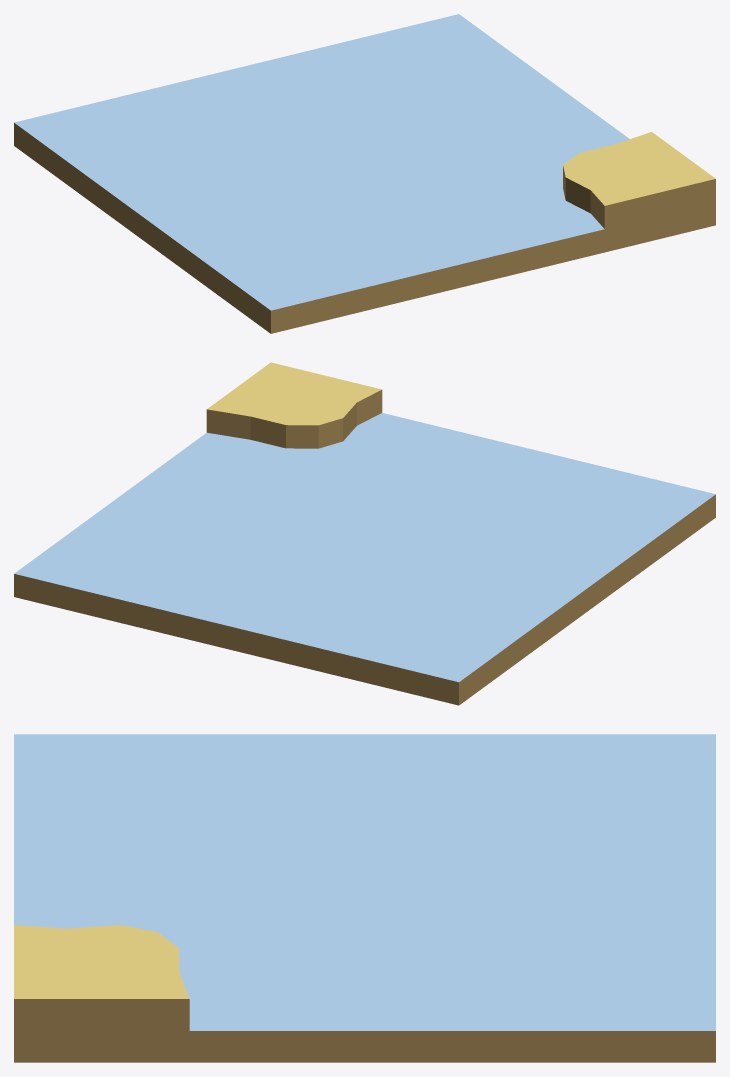
The model's file is Terrain_Modular_Tiles_Sand_Dirt_Water_Edge_Corner_Inner_02.fbx.
The picture shows the model from 3 angles, top to bottom: view 1: azimuth 30°, elevation 25°; view 2: azimuth 150°, elevation 25°; view 3: azimuth 270°, elevation 25°; orthographic projection. The views are drawn at different scales.
Visible parts, largest first — view 1: Terrain_Modular_Tiles_Sand_Dirt_Water_Edge_Corner_Inner_02; view 2: Terrain_Modular_Tiles_Sand_Dirt_Water_Edge_Corner_Inner_02; view 3: Terrain_Modular_Tiles_Sand_Dirt_Water_Edge_Corner_Inner_02.
Part boxes in pixels (<box>): Terrain_Modular_Tiles_Sand_Dirt_Water_Edge_Corner_Inner_02: <box>14,14,715,333</box>; Terrain_Modular_Tiles_Sand_Dirt_Water_Edge_Corner_Inner_02: <box>14,362,715,705</box>; Terrain_Modular_Tiles_Sand_Dirt_Water_Edge_Corner_Inner_02: <box>14,734,715,1062</box>.
Size of the model in its own units: 3000 by 300 by 3000.
